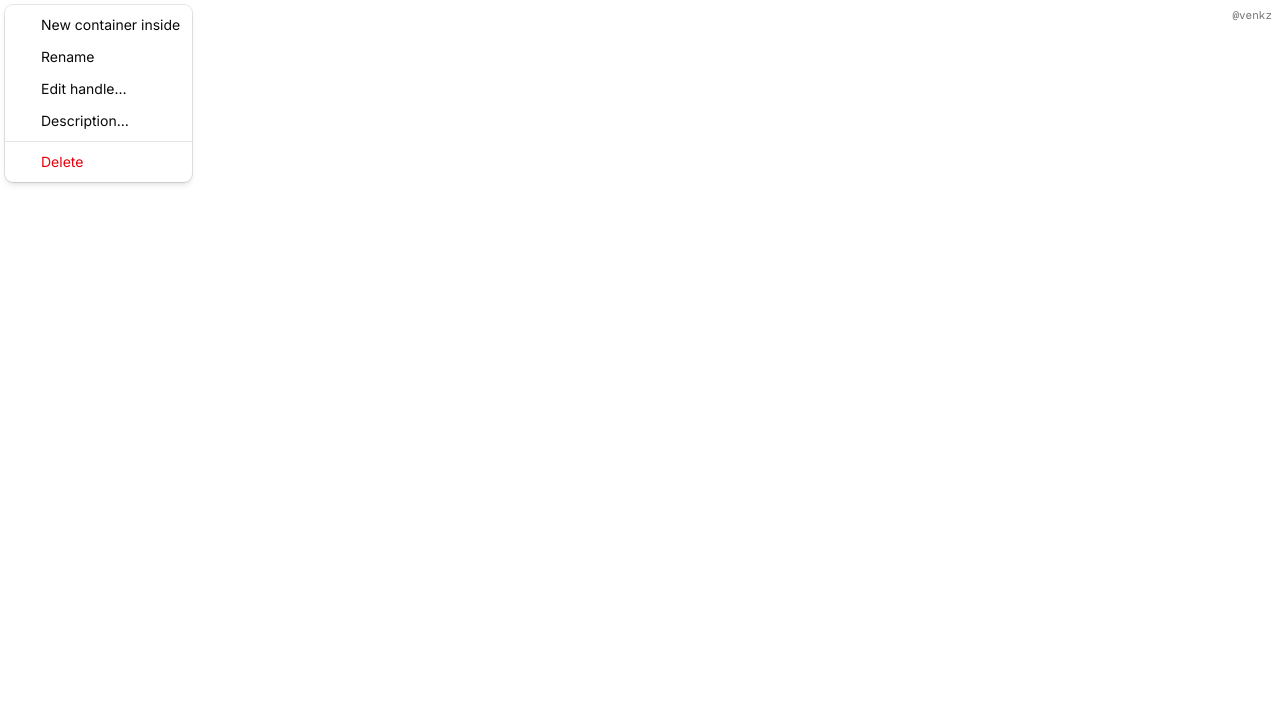
Test: a mentionable row › refuses to send a handle the pattern rejects
Click the menu item "Edit handle…" at (84, 88), box [41, 80, 126, 97]
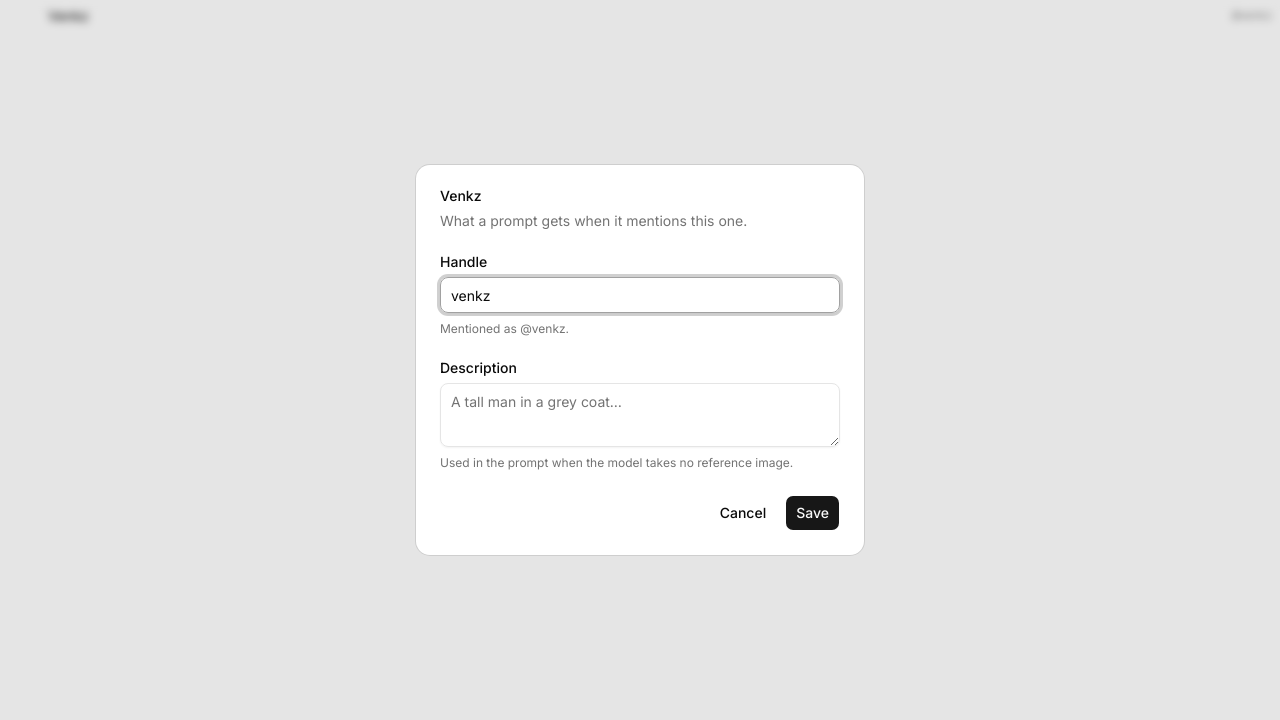
Clear the field labelled "Handle" at (640, 295), box [440, 277, 840, 313]
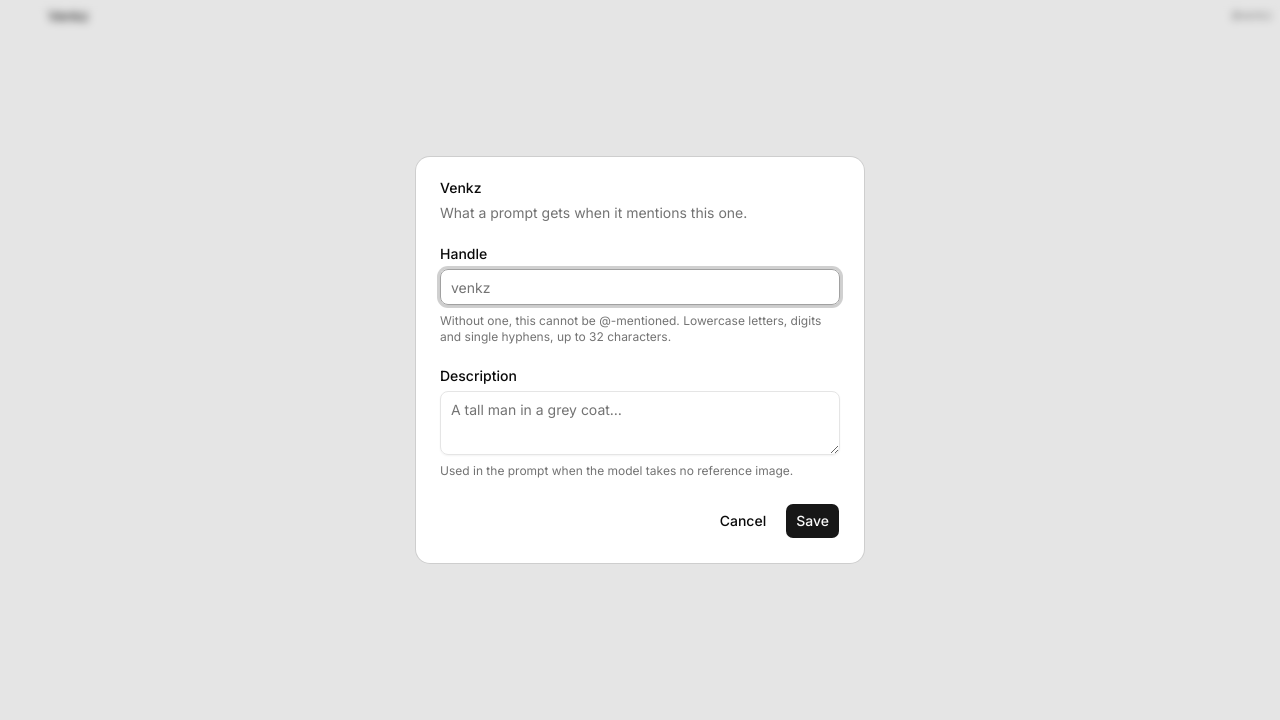
Type "Venkz!" into the field labelled "Handle" at (640, 287), box [440, 269, 840, 305]
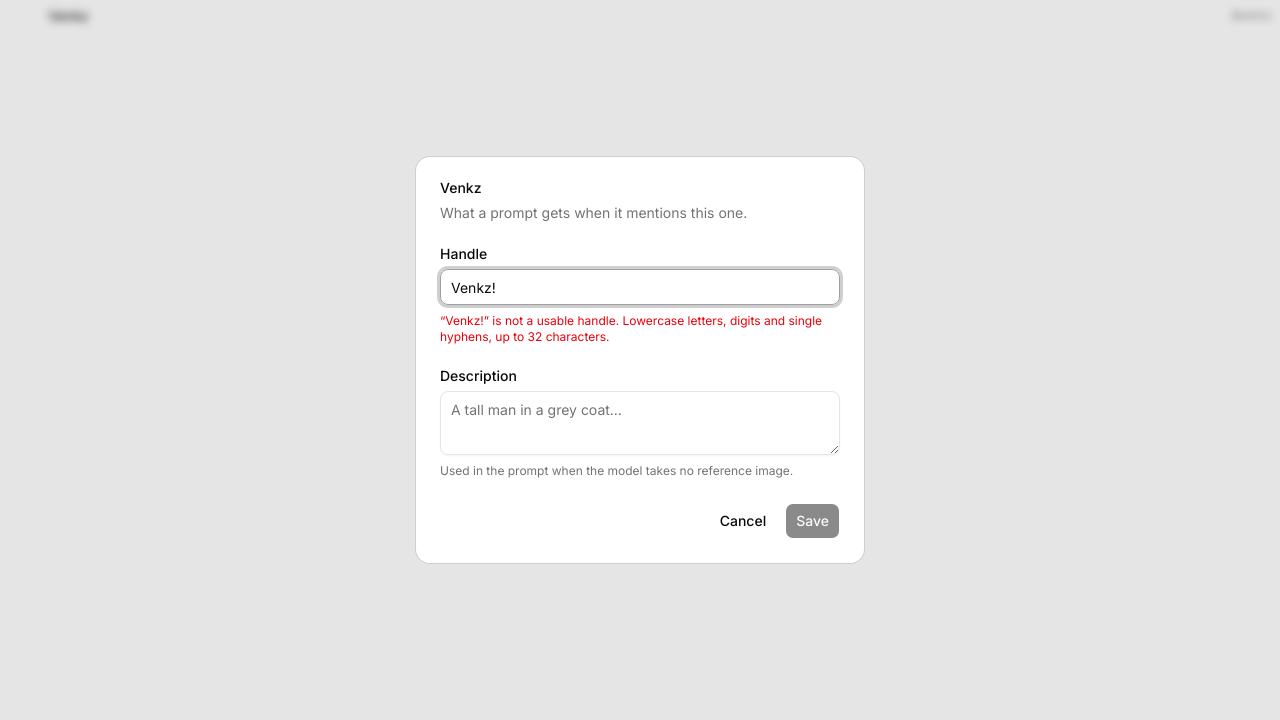
Expected: the button "Save" is disabled, [785, 503, 840, 539]
